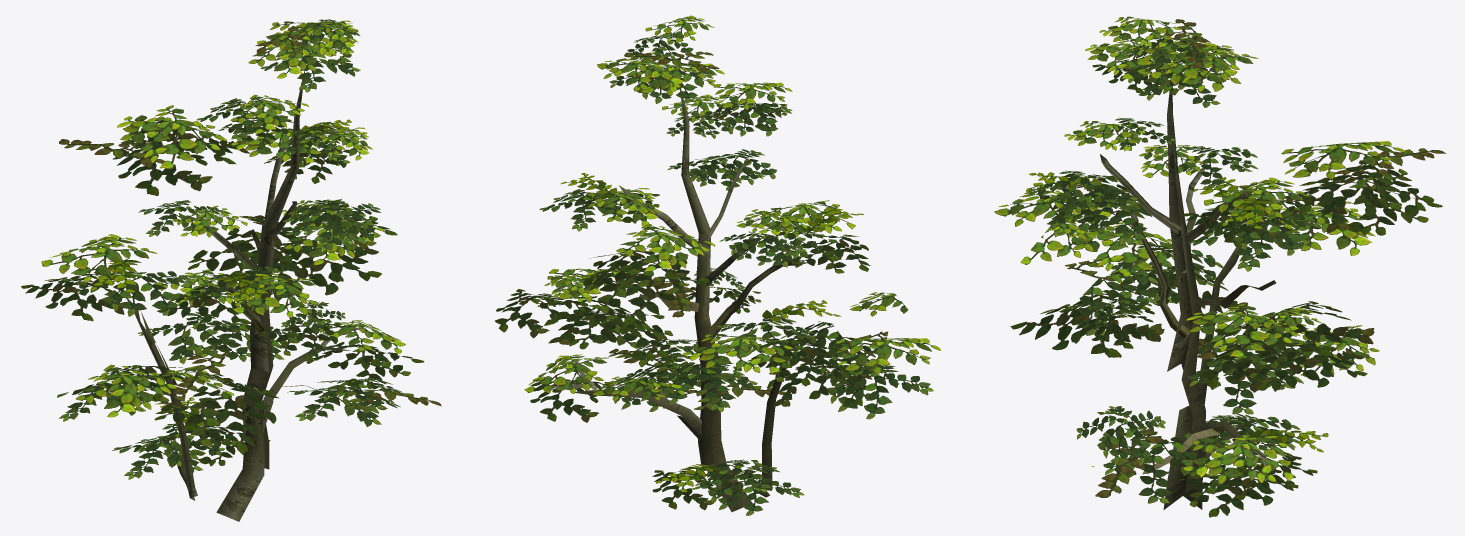
The model's file is S_Tree_Green126_H2.FBX.
3 views of the same model, side by side, from view 1: azimuth 30°, elevation 25°; view 2: azimuth 150°, elevation 25°; view 3: azimuth 270°, elevation 25° (orthographic). The views are drawn at different scales.
Visible parts, largest first — view 1: S_Tree_Green126_H2; view 2: S_Tree_Green126_H2; view 3: S_Tree_Green126_H2.
Boxes of the visible parts, bbox=[...] form: S_Tree_Green126_H2: bbox=[21, 19, 441, 521]; S_Tree_Green126_H2: bbox=[495, 15, 940, 515]; S_Tree_Green126_H2: bbox=[994, 16, 1446, 517].
Size of the model in its own units: 1069 by 1212 by 972.
